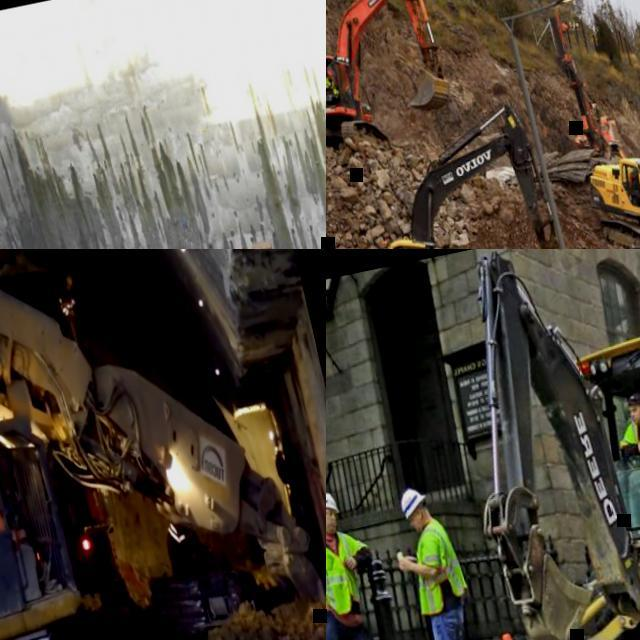helmet: (397, 486, 428, 518), (326, 490, 337, 514), (326, 68, 331, 76), (630, 170, 635, 176)
vest: (399, 515, 468, 615), (326, 527, 361, 617), (622, 408, 640, 467), (326, 76, 336, 94), (626, 172, 636, 188)
